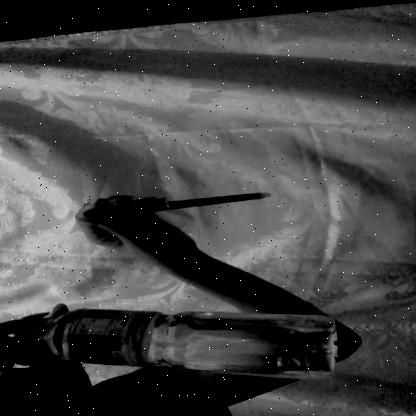Plastic Bottle: (20, 309, 336, 379)
